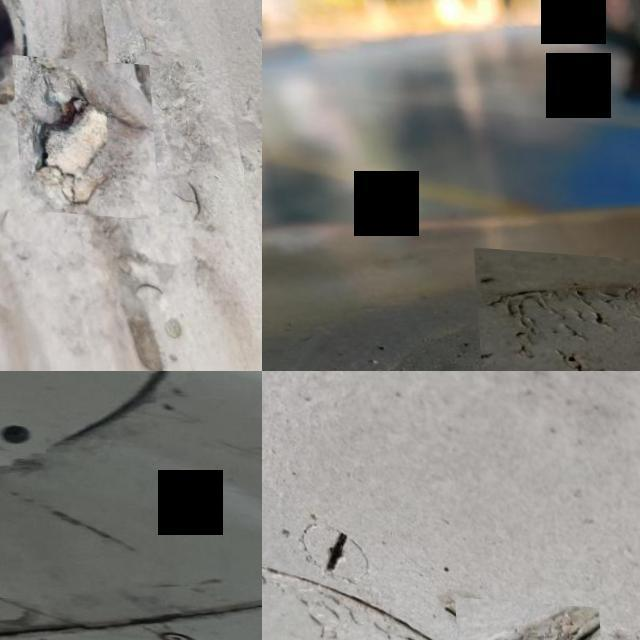Crack: (8, 53, 153, 216), (469, 243, 640, 371)
Missing_Fastener: (449, 592, 600, 640), (0, 421, 43, 451)
